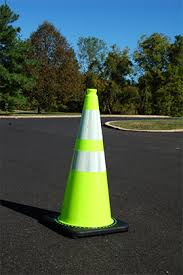cones: (41, 89, 131, 235)
